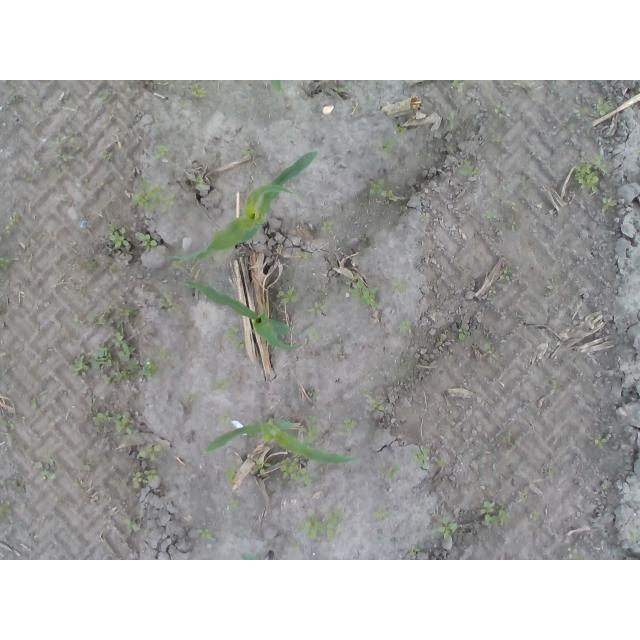Maize: (166, 148, 320, 264), (179, 280, 297, 355), (205, 414, 360, 466), (269, 80, 283, 93)
Weeds: (69, 330, 160, 384), (569, 145, 611, 196), (124, 175, 177, 210), (303, 509, 349, 544), (345, 270, 383, 310), (279, 455, 313, 487), (94, 410, 134, 435), (479, 500, 513, 525), (223, 325, 246, 360), (410, 447, 435, 474), (366, 176, 394, 200), (106, 222, 130, 248), (130, 469, 160, 488), (115, 304, 138, 328), (305, 415, 323, 444), (134, 231, 160, 251), (592, 96, 618, 116), (0, 213, 22, 236), (1, 415, 16, 448), (455, 158, 481, 177), (437, 516, 459, 538), (158, 288, 178, 312), (138, 443, 163, 462), (273, 286, 299, 304), (32, 462, 56, 480), (53, 147, 79, 163), (543, 274, 561, 297), (304, 301, 328, 318), (253, 458, 274, 477), (191, 527, 217, 542), (379, 135, 397, 155), (190, 80, 209, 98), (223, 462, 238, 484), (391, 277, 409, 295), (94, 87, 112, 105), (216, 409, 232, 428), (480, 338, 497, 355), (154, 143, 170, 161), (405, 543, 425, 557), (1, 255, 16, 273), (599, 197, 617, 212), (373, 507, 392, 521), (367, 400, 387, 413), (547, 380, 562, 397), (387, 464, 402, 481), (307, 326, 322, 343), (13, 479, 27, 497), (493, 99, 511, 113), (458, 319, 471, 338), (191, 174, 206, 190), (334, 84, 354, 96), (240, 147, 257, 161), (95, 310, 109, 327), (0, 501, 12, 520), (479, 209, 498, 221), (393, 119, 407, 135), (593, 433, 607, 448), (95, 179, 114, 190), (320, 220, 336, 233), (496, 430, 513, 442), (307, 387, 321, 401), (499, 267, 513, 281), (399, 319, 413, 333), (448, 80, 464, 92), (519, 174, 529, 193), (343, 416, 354, 433), (491, 132, 505, 145), (546, 465, 559, 479), (47, 135, 65, 145), (169, 260, 187, 270), (182, 391, 200, 401), (628, 529, 640, 544), (159, 345, 170, 361), (567, 113, 577, 130), (511, 215, 521, 232), (447, 112, 457, 129), (228, 498, 241, 511), (31, 158, 41, 174), (87, 256, 97, 272), (294, 251, 310, 261), (527, 511, 541, 522), (80, 464, 97, 473), (239, 552, 257, 560), (567, 546, 577, 560), (214, 383, 226, 394), (420, 213, 432, 224), (178, 100, 190, 111), (506, 200, 518, 211), (23, 173, 34, 184), (101, 151, 113, 161), (548, 81, 556, 96), (71, 312, 81, 323), (127, 519, 138, 529), (488, 285, 497, 295), (30, 399, 38, 410), (579, 106, 590, 114), (292, 542, 300, 552), (437, 458, 445, 467), (7, 95, 17, 102), (520, 494, 528, 502), (415, 152, 421, 160), (191, 268, 198, 273)
